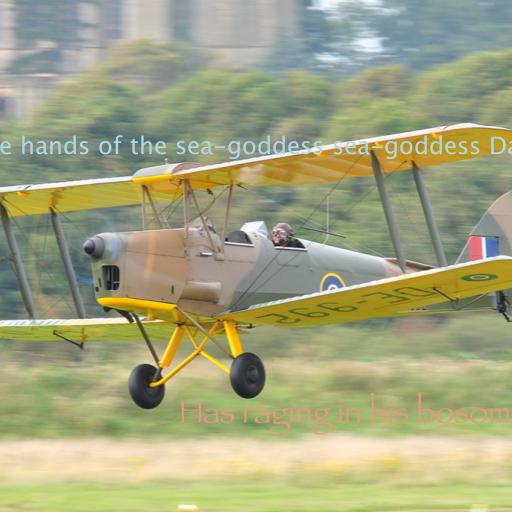Lucida Grande: (0, 135, 512, 159)
Papyrus: (179, 392, 511, 435)
